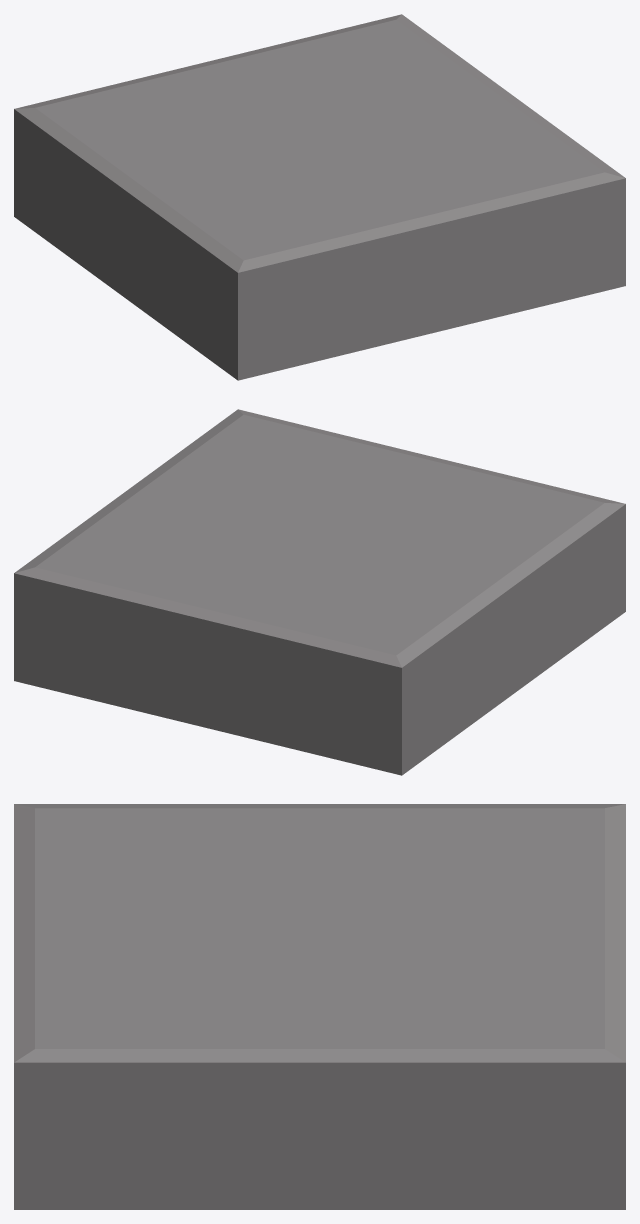
File: FunnyCube02.fbx
3 views of the same model, one above another, from view 1: azimuth 30°, elevation 25°; view 2: azimuth 150°, elevation 25°; view 3: azimuth 270°, elevation 25° (orthographic). The views are drawn at different scales.
Parts seen in each view (by area): view 1: Cube; view 2: Cube; view 3: Cube.
Part boxes in pixels (box(x1,y1,x2,y2)): Cube: box(14, 14, 625, 380); Cube: box(14, 409, 625, 775); Cube: box(14, 804, 625, 1209).
Size of the model in its own units: 400 by 110 by 400.
1 material, 1 textured.
